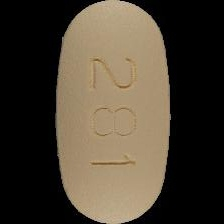55111-281: (0, 0, 224, 224)
